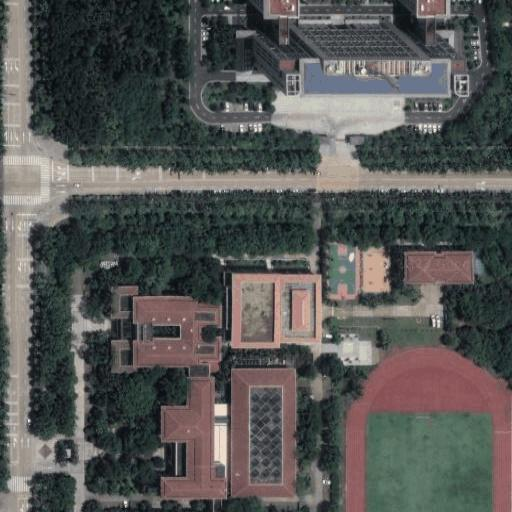building: (159, 369, 228, 500), (227, 371, 296, 496), (266, 30, 450, 72), (229, 273, 322, 349), (135, 301, 229, 370), (109, 285, 136, 369), (407, 252, 473, 286), (273, 5, 288, 30), (422, 2, 432, 30)
